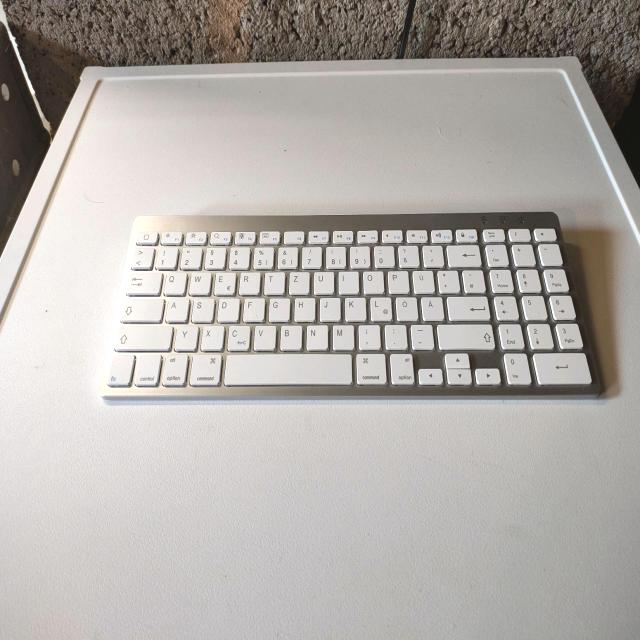0: (372, 243, 394, 266)
1: (154, 244, 177, 267)
2: (179, 245, 201, 267)
3: (203, 245, 225, 267)
4: (227, 244, 249, 268)
5: (251, 244, 273, 267)
6: (275, 244, 297, 267)
7: (300, 245, 321, 267)
8: (324, 244, 346, 267)
9: (348, 244, 370, 267)
a: (164, 295, 188, 321)
accent: (421, 244, 443, 266)
ae: (419, 295, 443, 319)
alt-left: (160, 351, 188, 386)
altgr-right: (388, 351, 414, 385)
b: (278, 323, 302, 349)
c: (225, 323, 250, 350)
comma: (356, 322, 380, 348)
d: (215, 295, 238, 321)
del: (445, 243, 481, 266)
e: (213, 270, 235, 294)
enter: (445, 293, 489, 319)
f: (241, 296, 264, 320)
g: (267, 296, 289, 320)
h: (292, 295, 314, 321)
hash: (461, 268, 485, 292)
i: (337, 269, 359, 292)
j: (318, 295, 340, 319)
k: (343, 295, 365, 319)
keyboard: (98, 209, 610, 401)
l: (369, 294, 392, 320)
less: (131, 245, 153, 267)
m: (330, 322, 354, 349)
minus: (408, 323, 433, 349)
n: (304, 323, 327, 349)
o: (361, 268, 383, 292)
oe: (394, 295, 418, 319)
p: (386, 268, 408, 292)
plus: (436, 268, 460, 292)
point: (383, 322, 407, 348)
q: (162, 269, 186, 293)
r: (237, 269, 259, 293)
s: (189, 295, 213, 321)
shift-left: (115, 321, 173, 349)
shift-lock: (120, 294, 163, 320)
shift-right: (436, 321, 494, 348)
space: (223, 351, 352, 384)
ss: (397, 243, 419, 266)
strg-left: (133, 350, 161, 386)
t: (262, 269, 284, 293)
tab: (125, 268, 161, 292)
u: (312, 269, 334, 293)
ue: (411, 268, 433, 292)
v: (251, 322, 275, 349)
w: (187, 269, 210, 293)
x: (199, 322, 223, 349)
y: (173, 322, 198, 349)
z: (287, 269, 309, 293)
